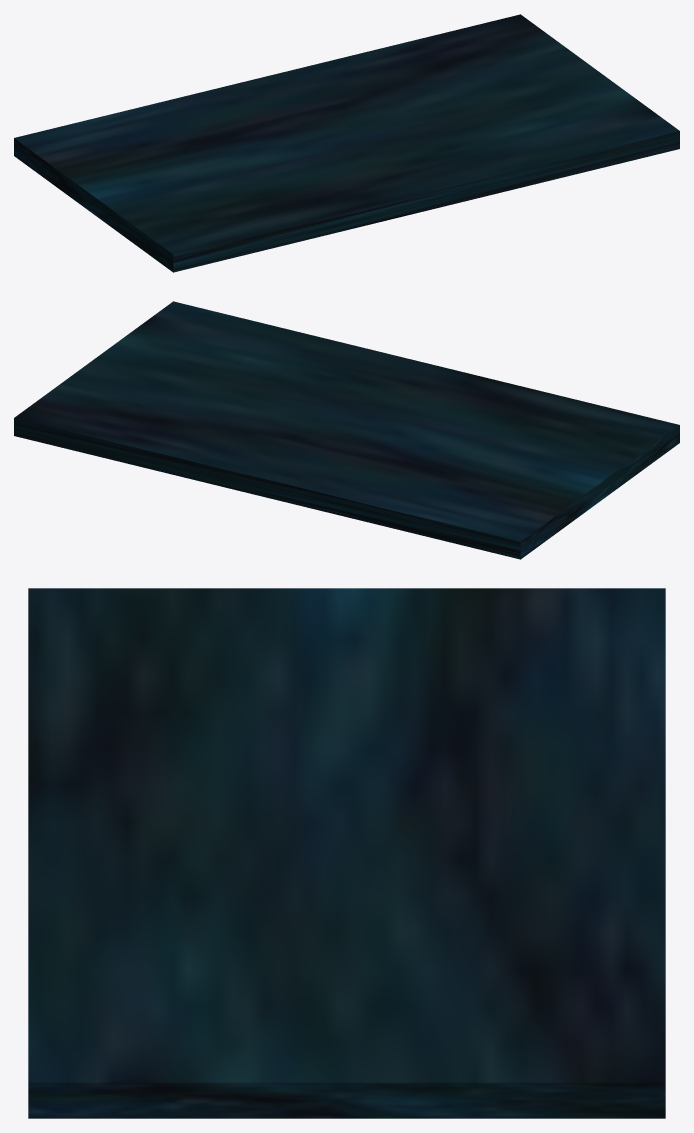
The model's file is biblia.obj.
3 views of the same model, one above another, from view 1: azimuth 30°, elevation 25°; view 2: azimuth 150°, elevation 25°; view 3: azimuth 270°, elevation 25° (orthographic). The views are drawn at different scales.
Parts seen in each view (by area): view 1: Cube; view 2: Cube; view 3: Cube.
Boxes of the visible parts, box(x1,y1,x2,y2) form: Cube: box(14, 14, 679, 272); Cube: box(14, 301, 679, 559); Cube: box(28, 588, 665, 1118).
Size of the model in its own units: 5.41 by 0.1837 by 2.95.
Materials: 1 (1 with a texture image).
